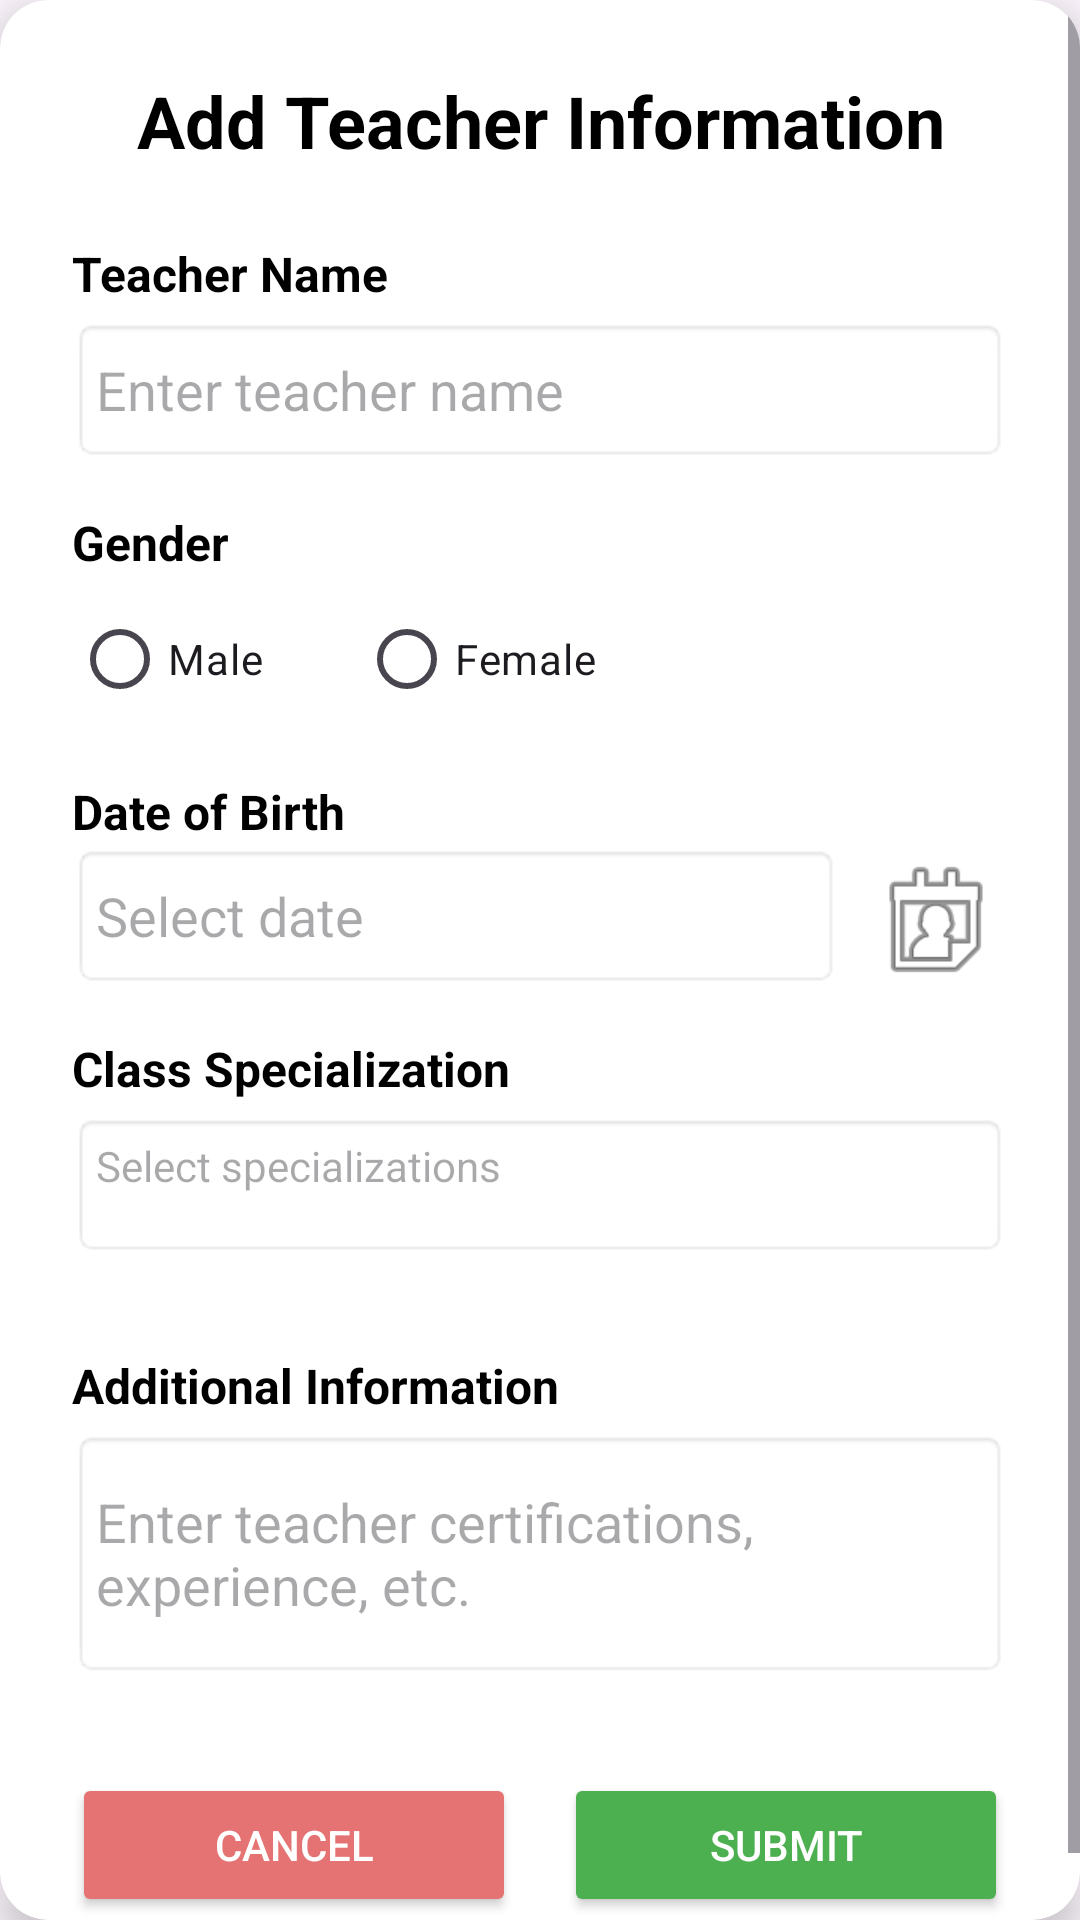

Icons on this 1080px×1920px Android screen, each with its box as (x1, y1, x2, y2):
calendar: (889, 867, 983, 972)
